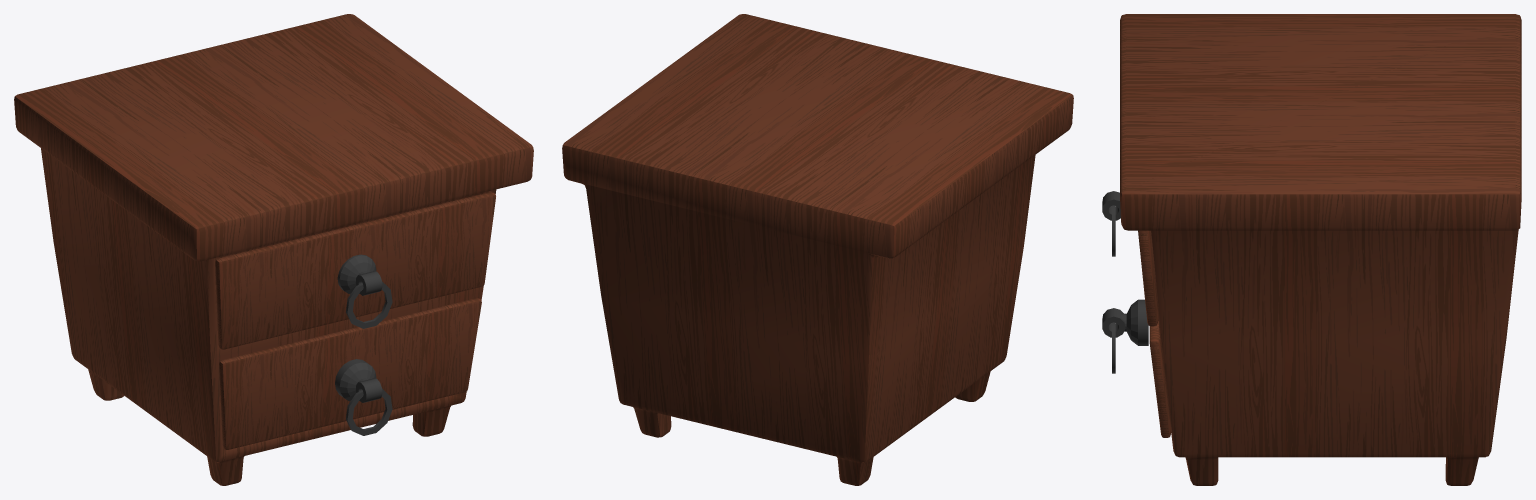
The model's file is Bedside_Table.fbx.
The picture shows the model from 3 angles, left to right: view 1: azimuth 30°, elevation 25°; view 2: azimuth 150°, elevation 25°; view 3: azimuth 270°, elevation 25°; orthographic projection. The views are drawn at different scales.
Parts seen in each view (by area): view 1: Bedside_Drawer, Drawer_T, Drawer_B, Cylinder002, Cylinder001; view 2: Bedside_Drawer; view 3: Bedside_Drawer, Cylinder002, Drawer_B, Drawer_T, Cylinder001.
Boxes of the visible parts, x1,y1,x2,y2 form: Bedside_Drawer: (14, 14, 533, 485); Drawer_T: (215, 192, 495, 349); Drawer_B: (219, 298, 481, 449); Cylinder002: (335, 359, 392, 435); Cylinder001: (337, 254, 392, 328); Bedside_Drawer: (562, 14, 1073, 485); Bedside_Drawer: (1120, 14, 1521, 485); Cylinder002: (1102, 299, 1148, 373); Drawer_B: (1149, 321, 1171, 437); Drawer_T: (1138, 230, 1158, 326); Cylinder001: (1102, 191, 1120, 256).
Bounding box in the file's own units: 74.53 × 62.49 × 72.9.
Materials: 2 (1 with a texture image).
